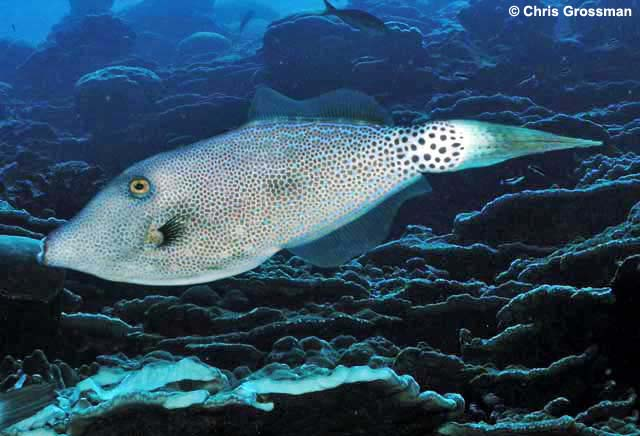Aluterus_scriptus: (34, 92, 602, 294)
